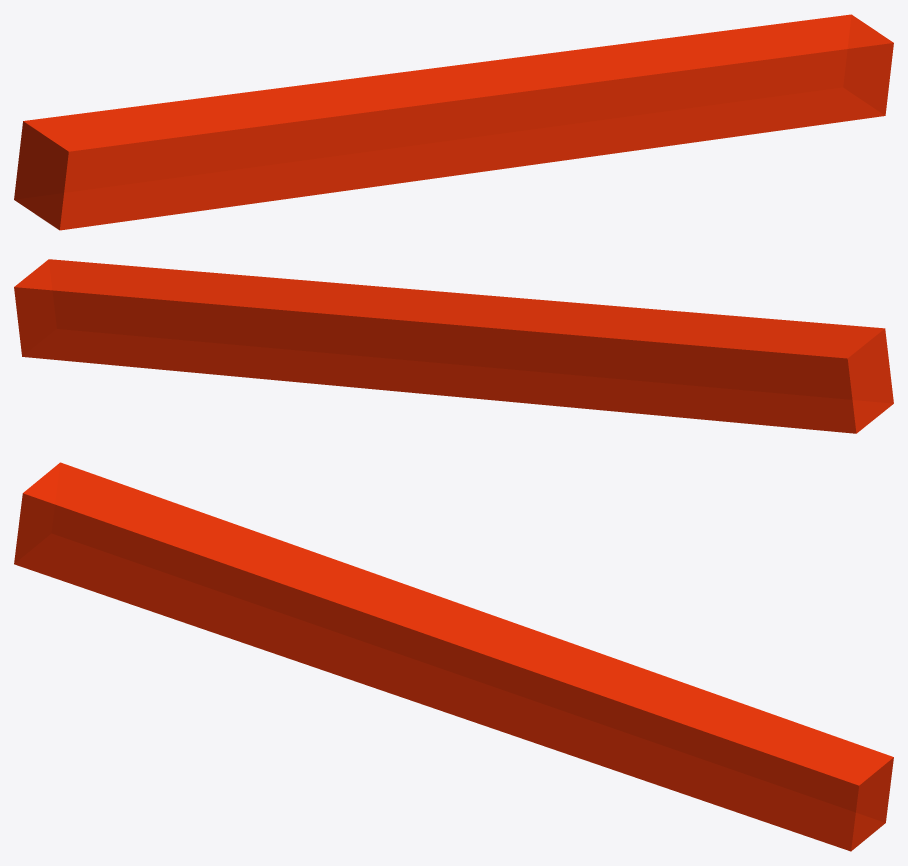
Rendered from Event_421115418_EErechit_6.fbx.
The picture shows the model from 3 angles, top to bottom: view 1: azimuth 30°, elevation 25°; view 2: azimuth 150°, elevation 25°; view 3: azimuth 330°, elevation 25°; orthographic projection. The views are drawn at different scales.
Visible parts, largest first — view 1: Model; view 2: Model; view 3: Model.
Part boxes in pixels (x1,y1,x2,y2): Model: (14,14,893,230); Model: (14,259,893,433); Model: (14,462,893,851).
Size of the model in its own units: 0.916 by 0.1909 by 0.1184.
